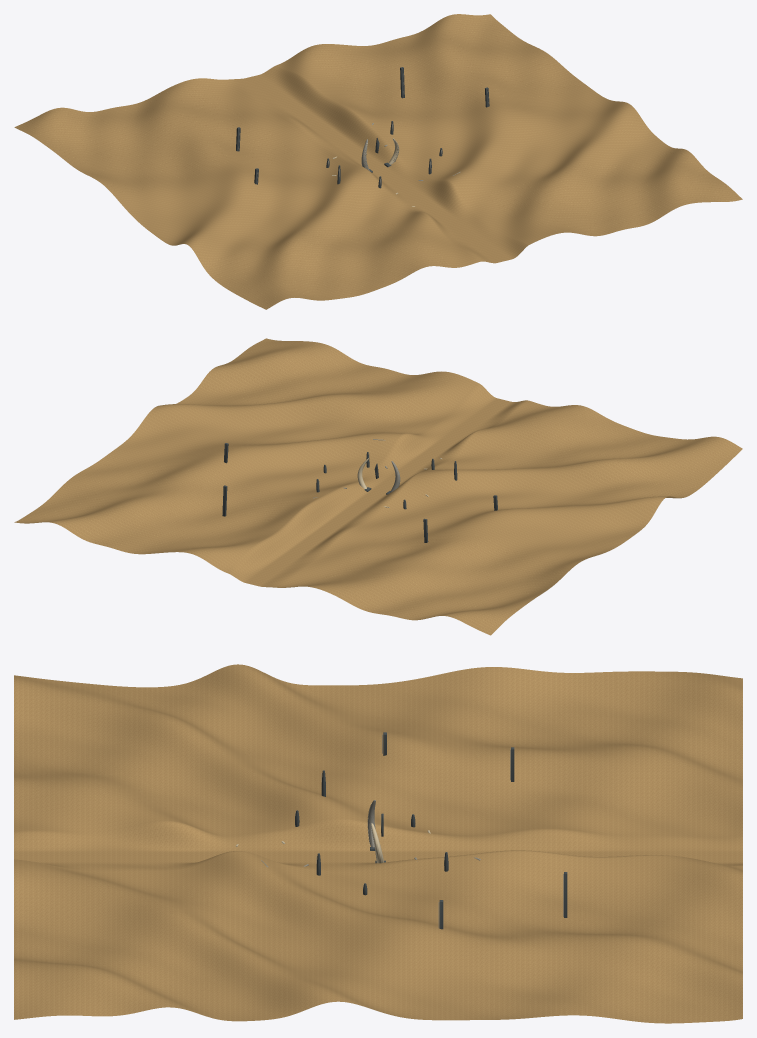
Rendered from desert.glb.
3 views of the same model, one above another, from view 1: azimuth 30°, elevation 25°; view 2: azimuth 150°, elevation 25°; view 3: azimuth 270°, elevation 25° (orthographic). The views are drawn at different scales.
Visible parts, largest first — view 1: DuneTerrain__Desert_amber_sand; view 2: DuneTerrain__Desert_amber_sand; view 3: DuneTerrain__Desert_amber_sand.
Part boxes in pixels (<box>): DuneTerrain__Desert_amber_sand: <box>14,14,742,309</box>; DuneTerrain__Desert_amber_sand: <box>14,338,742,635</box>; DuneTerrain__Desert_amber_sand: <box>14,664,742,1023</box>.
Size of the model in its own units: 480 by 33.85 by 440.
5 materials, 3 textured.
